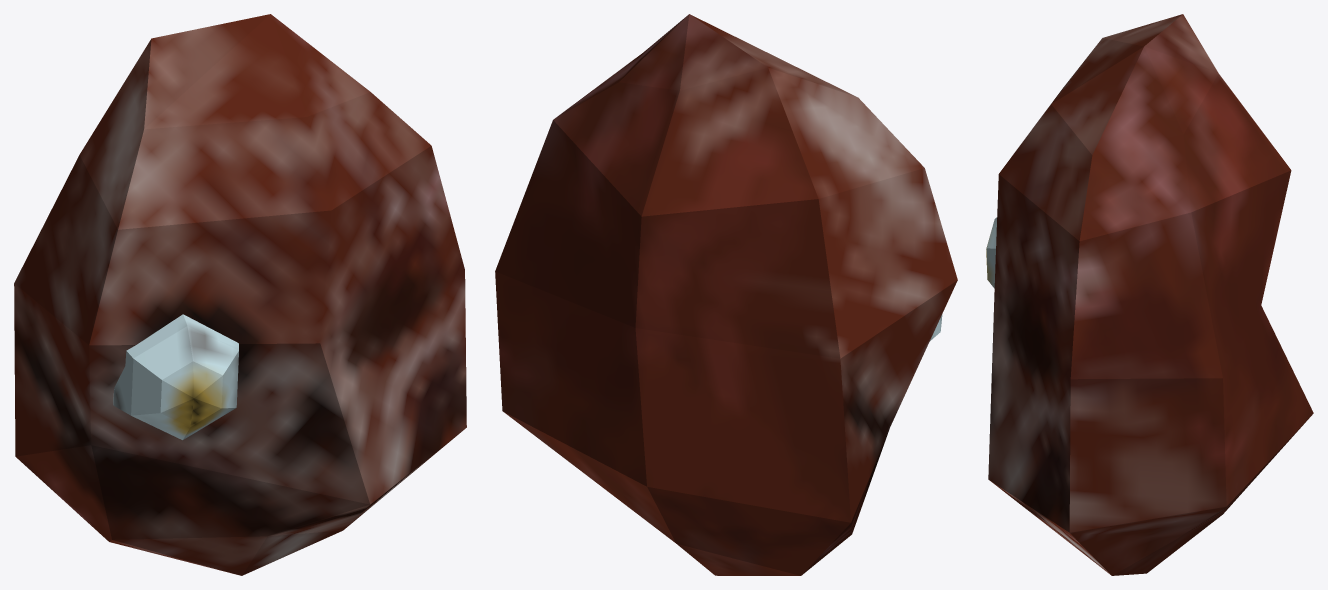
The model's file is bloody pieces1.fbx.
3 views of the same model, side by side, from view 1: azimuth 30°, elevation 25°; view 2: azimuth 150°, elevation 25°; view 3: azimuth 270°, elevation 25° (orthographic). The views are drawn at different scales.
Parts seen in each view (by area): view 1: Sphere.004; view 2: Sphere.004; view 3: Sphere.004.
Boxes of the visible parts, x1,y1,x2,y2 form: Sphere.004: (14,14,466,575); Sphere.004: (495,14,957,575); Sphere.004: (986,14,1313,575).
Bounding box in the file's own units: 180 × 249 × 137.
1 material, 1 textured.
